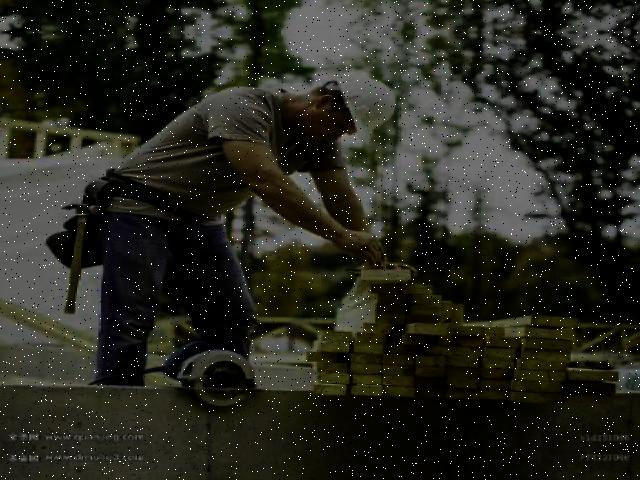Helmet: (318, 66, 401, 142)
